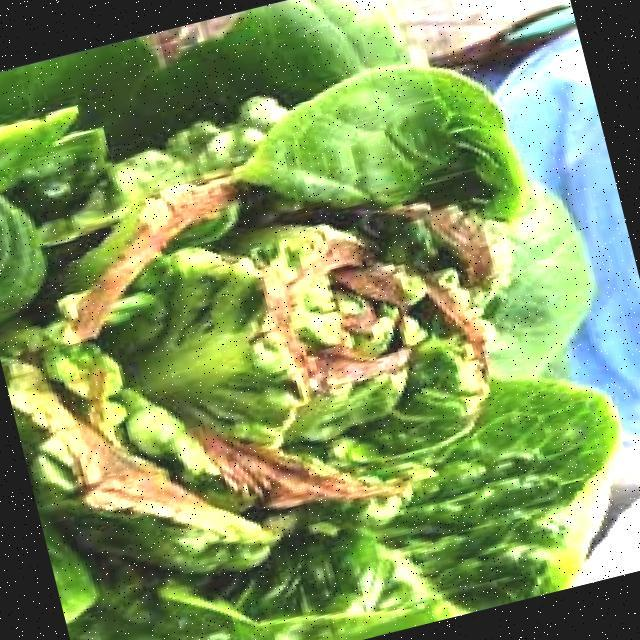Lettuce Mosaic Virus: (0, 86, 562, 605)
